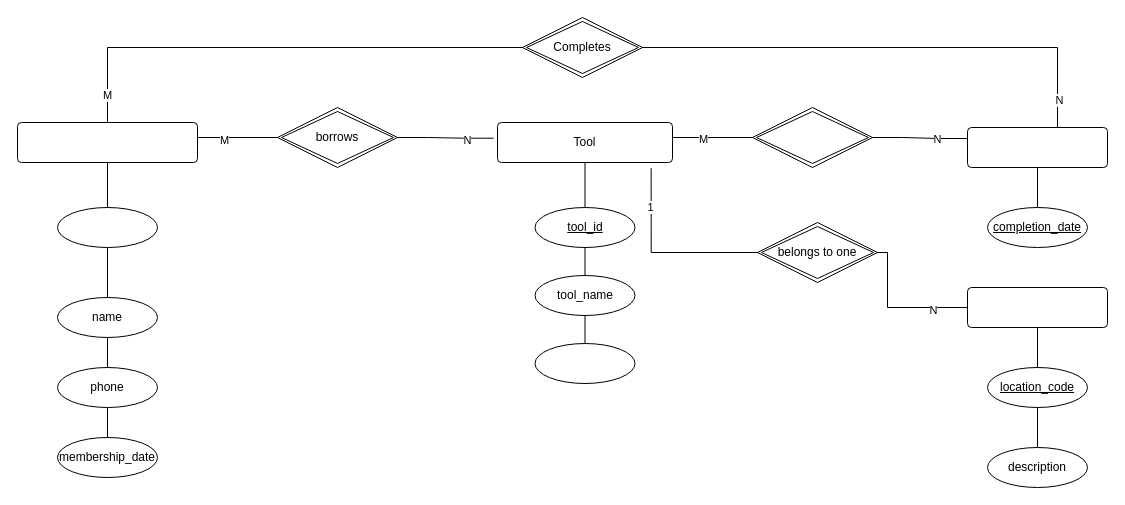
The diagram is 1125 pixels wide and 505 high, and some of its shapes have lost their labels. Each missing label, with the centre of its shape:
"category" belongs at [584,363].
"Certification" belongs at [1037,147].
"Member" belongs at [107,142].
"member_id" belongs at [107,227].
"requires" belongs at [812,137].
"Storage Location" belongs at [1037,307].
